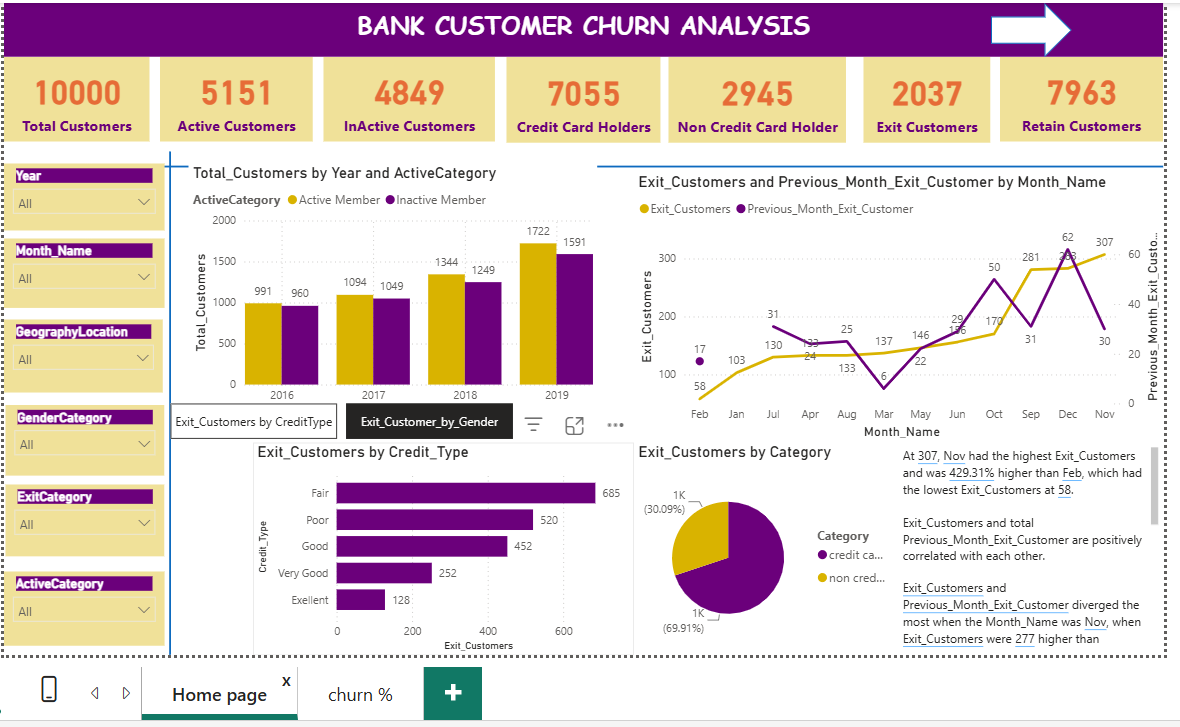

The page's visual inventory and layout, read from the dashboard file:
{"tool":"powerbi","page":{"name":"Home page","canvas":[1280,720],"ordinal":0},"visuals":[{"type":"card","fields":{"Values":["Calcualtion.Total_Customers"]},"box":[0,59,160.5,93.3],"z":0},{"type":"card","fields":{"Values":["Calcualtion.Active_Customers"]},"box":[171.5,59,168.8,93.3],"z":1000},{"type":"card","fields":{"Values":["Calcualtion.InActive_Customers"]},"box":[352.7,60.4,189.4,93.3],"z":2000},{"type":"textbox","box":[0,0,1280.3,59],"z":3000},{"type":"card","fields":{"Values":["Calcualtion.Credit_Card_Holders"]},"box":[554.4,59,170.2,94.7],"z":4000},{"type":"card","fields":{"Values":["Calcualtion.Non_Credit_Card_Holder"]},"box":[734.1,59,196.2,94.7],"z":5000},{"type":"card","fields":{"Values":["Calcualtion.Exit_Customers"]},"box":[949.6,59,140,94.7],"z":6000},{"type":"card","fields":{"Values":["Calcualtion.Retain_Customers"]},"box":[1100.5,60.4,179.8,93.3],"z":7000},{"type":"shape","box":[1.2,133.9,1278.4,92.9],"z":8000},{"type":"shape","box":[177,164.7,12.3,555.7],"z":9000},{"type":"slicer","fields":{"Values":["DateMaster.Year"]},"box":[0,177,177,74.1],"z":10000},{"type":"slicer","fields":{"Values":["DateMaster.Month_Name"]},"box":[0,260.7,177,76.8],"z":11000},{"type":"slicer","fields":{"Values":["Geography.GeographyLocation"]},"box":[0,349.9,175.6,81],"z":12000},{"type":"slicer","fields":{"Values":["Gender.GenderCategory"]},"box":[1.4,443.2,175.6,78.2],"z":13000},{"type":"slicer","fields":{"Values":["ExitCustomer.ExitCategory"]},"box":[1.4,531,175.6,79.6],"z":14000},{"type":"clusteredColumnChart","fields":{"Category":["DateMaster.Year","DateMaster.Month"],"Series":["ActiveCustomer.ActiveCategory"],"Y":["Calcualtion.Total_Customers"]},"box":[203.1,177,451.5,286.8],"z":15000},{"type":"lineChart","fields":{"Category":["DateMaster.Month_Name"],"Y":["Calcualtion.Exit_Customers"],"Y2":["Calcualtion.Previous_Month_Exit_Customer"]},"box":[695.7,188,584.6,297.8],"z":16000},{"type":"slicer","fields":{"Values":["ActiveCustomer.ActiveCategory"]},"box":[0,628.5,177,82.3],"z":18000},{"type":"clusteredBarChart","fields":{"Category":["Bank_Churn.Credit_Type"],"Y":["Calcualtion.Exit_Customers"]},"box":[275,485.3,420.7,235.2],"z":19000},{"type":"pieChart","fields":{"Category":["CreditCard.Category"],"Y":["Calcualtion.Exit_Customers"]},"box":[695.7,485.8,292.3,234.6],"z":20000},{"type":"textbox","box":[988,486,292,234],"z":21000},{"type":"bookmarkNavigator","box":[183.3,442.6,379.9,39.8],"z":22000},{"type":"shape","box":[1090.8,0,89,59.8],"z":23000}]}

Visuals, with their boxes on the page's 1280x720 design canvas (x1, y1, x2, y2). These are canvas units, not pixel positions in the 1180x727 screenshot, which may show the page scaled, cropped or inside an application window:
card - Calcualtion.Total_Customers: bbox(0, 59, 160, 152)
card - Calcualtion.Active_Customers: bbox(172, 59, 340, 152)
card - Calcualtion.InActive_Customers: bbox(353, 60, 542, 154)
textbox: bbox(0, 0, 1280, 59)
card - Calcualtion.Credit_Card_Holders: bbox(554, 59, 725, 154)
card - Calcualtion.Non_Credit_Card_Holder: bbox(734, 59, 930, 154)
card - Calcualtion.Exit_Customers: bbox(950, 59, 1090, 154)
card - Calcualtion.Retain_Customers: bbox(1100, 60, 1280, 154)
shape: bbox(1, 134, 1280, 227)
shape: bbox(177, 165, 189, 720)
slicer - DateMaster.Year: bbox(0, 177, 177, 251)
slicer - DateMaster.Month_Name: bbox(0, 261, 177, 338)
slicer - Geography.GeographyLocation: bbox(0, 350, 176, 431)
slicer - Gender.GenderCategory: bbox(1, 443, 177, 521)
slicer - ExitCustomer.ExitCategory: bbox(1, 531, 177, 611)
clusteredColumnChart - DateMaster.Year x DateMaster.Month: bbox(203, 177, 655, 464)
lineChart - DateMaster.Month_Name x Calcualtion.Exit_Customers: bbox(696, 188, 1280, 486)
slicer - ActiveCustomer.ActiveCategory: bbox(0, 628, 177, 711)
clusteredBarChart - Bank_Churn.Credit_Type x Calcualtion.Exit_Customers: bbox(275, 485, 696, 720)
pieChart - CreditCard.Category x Calcualtion.Exit_Customers: bbox(696, 486, 988, 720)
textbox: bbox(988, 486, 1280, 720)
bookmarkNavigator: bbox(183, 443, 563, 482)
shape: bbox(1091, 0, 1180, 60)
